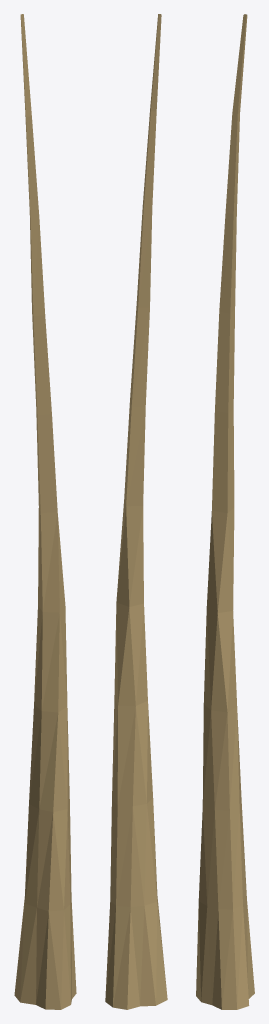
File: spruce_branch.fbx
3 renders of one model, left to right at view 1: azimuth 30°, elevation 25°; view 2: azimuth 210°, elevation 25°; view 3: azimuth 270°, elevation 25°, orthographic.
Parts seen in each view (by area): view 1: Foliage026; view 2: Foliage026; view 3: Foliage026.
Part boxes in pixels (box(x1,y1,x2,y2)): Foliage026: box(14, 14, 76, 1009); Foliage026: box(105, 14, 167, 1009); Foliage026: box(196, 14, 254, 1009).
Bounding box in the file's own units: 26.3 × 477 × 26.13.
